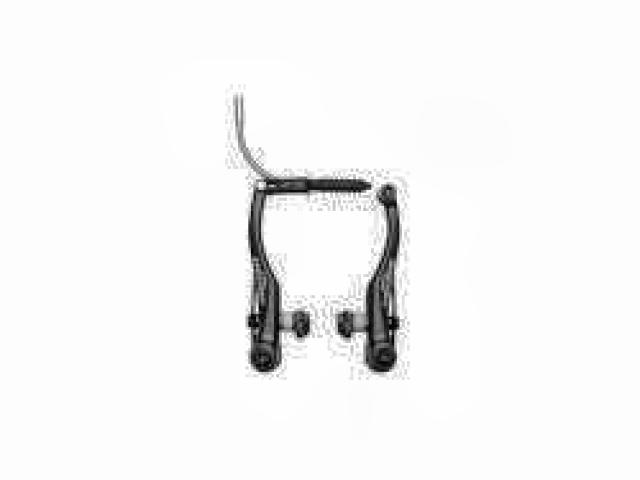rim_brake: (245, 173, 406, 372)
